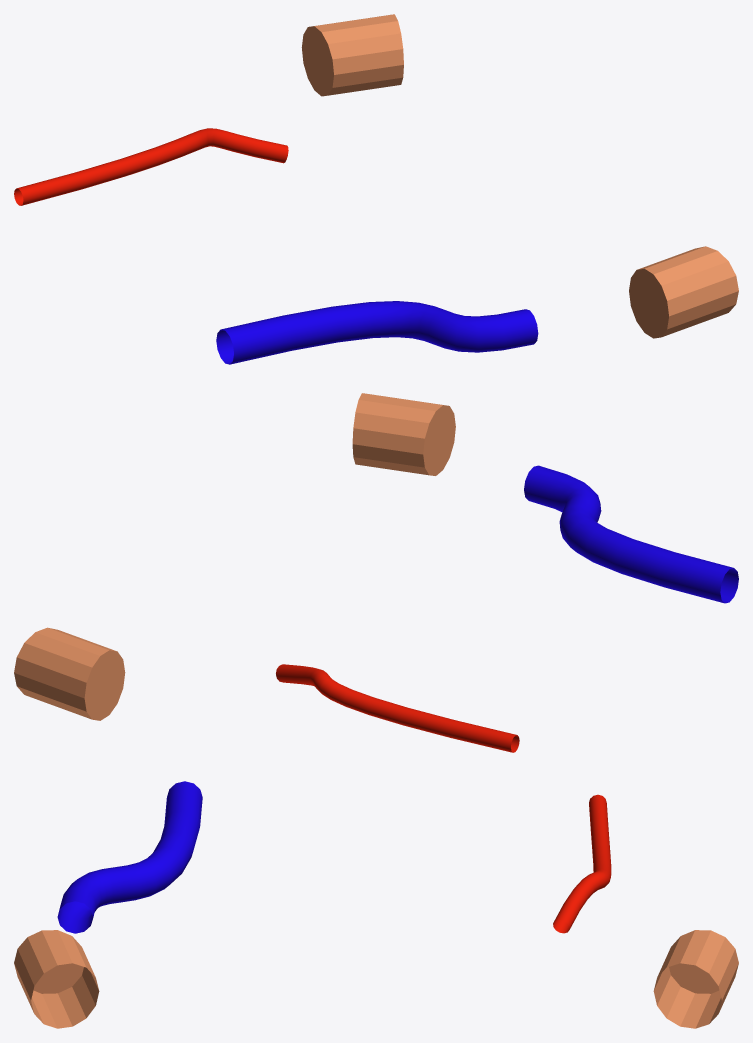
The model's file is super.fbx.
3 views of the same model, one above another, from view 1: azimuth 30°, elevation 25°; view 2: azimuth 150°, elevation 25°; view 3: azimuth 270°, elevation 25° (orthographic). The views are drawn at different scales.
Parts seen in each view (by area): view 1: Torus, BezierCurve.001, BezierCurve; view 2: Torus, BezierCurve.001, BezierCurve; view 3: Torus, BezierCurve.001, BezierCurve.
Part boxes in pixels (x1,y1,x2,y2): Torus: (301, 14, 738, 338); BezierCurve.001: (216, 301, 538, 364); BezierCurve: (14, 128, 288, 205); Torus: (14, 393, 455, 720); BezierCurve.001: (524, 465, 738, 603); BezierCurve: (276, 664, 519, 752); Torus: (14, 930, 738, 1028); BezierCurve.001: (57, 781, 202, 933); BezierCurve: (553, 794, 611, 933).
Size of the model in its own units: 111 by 15.6 by 162.
